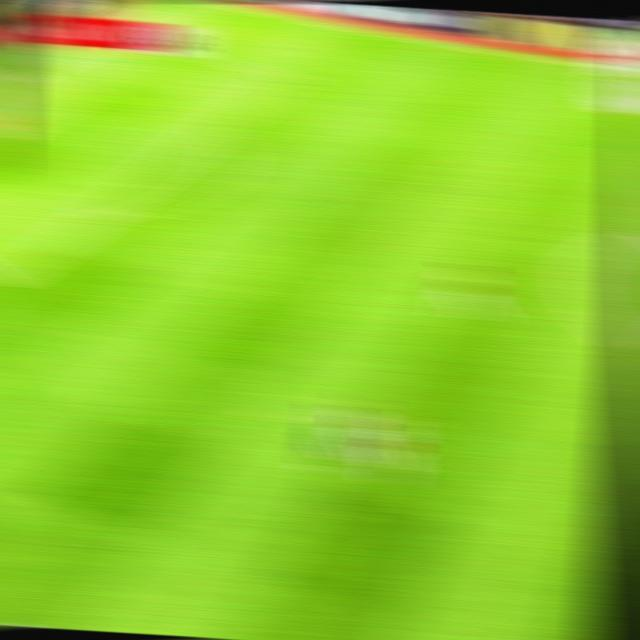bigarea_top_inner: (268, 63, 308, 86)
bottom_arc_area_intersection: (76, 201, 120, 227)
corner: (166, 1, 208, 4)
smallarea_top_inner: (65, 76, 109, 102)
smallarea_top_outter: (2, 59, 44, 85)
top_arc_area_intersection: (194, 117, 234, 140)
